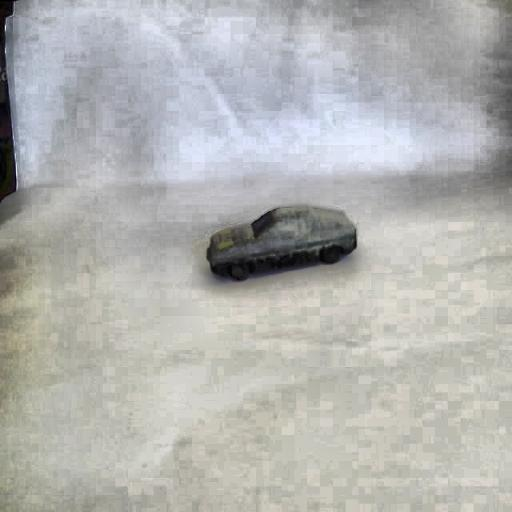normal_car: (203, 199, 359, 284)
